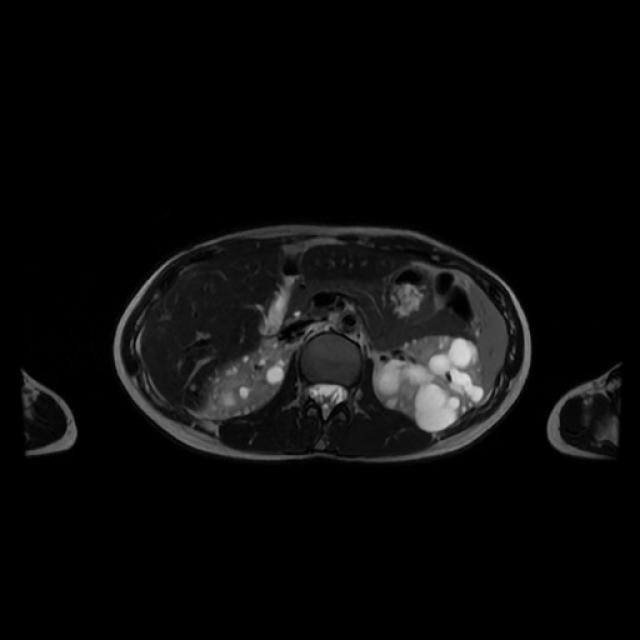sag: (204, 342, 286, 418)
sol: (377, 334, 486, 431)
